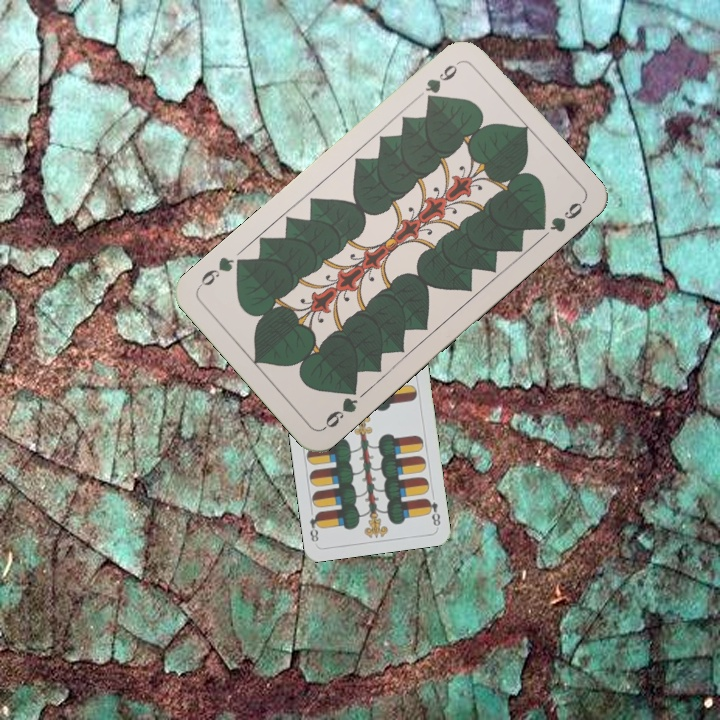E8: (422, 494, 443, 529)
G9: (319, 381, 361, 433), (420, 57, 463, 106)
